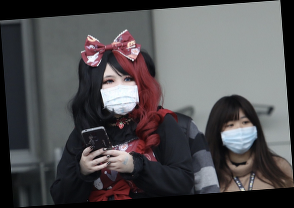with_mask: (99, 72, 141, 116), (219, 115, 258, 156)
